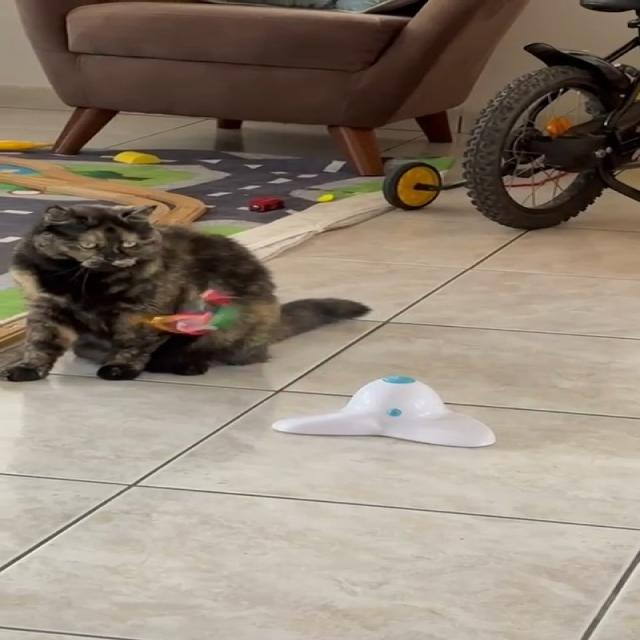authorized: (4, 203, 372, 381)
